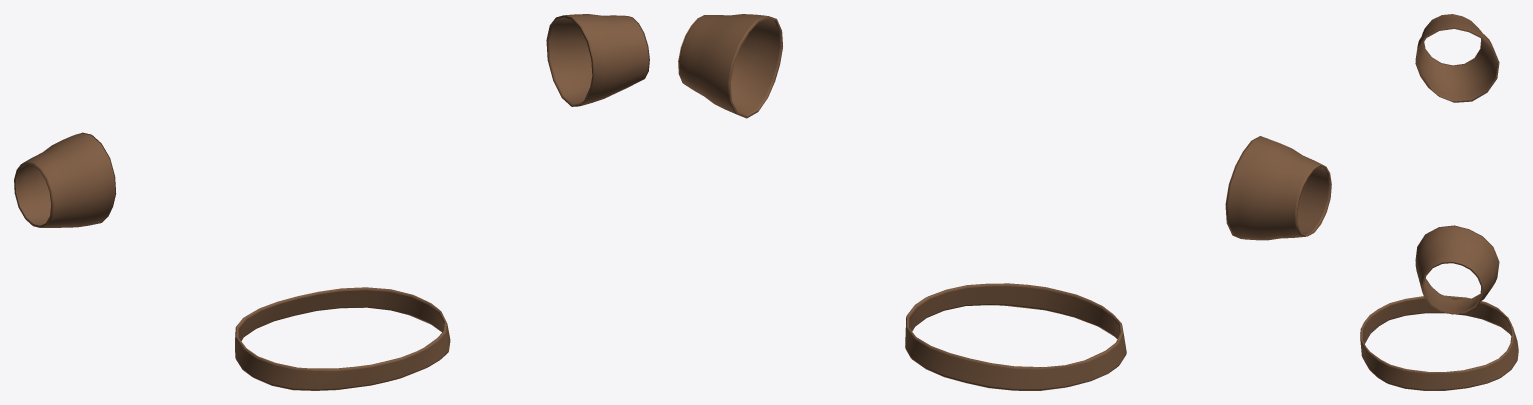
File: armor.redbrand.default.gltf
3 views of the same model, side by side, from view 1: azimuth 30°, elevation 25°; view 2: azimuth 150°, elevation 25°; view 3: azimuth 270°, elevation 25° (orthographic). The views are drawn at different scales.
Visible parts, largest first — view 1: redbrand.belt, redbrand.bracer_l, redbrand.bracer_r; view 2: redbrand.belt, redbrand.bracer_r, redbrand.bracer_l; view 3: redbrand.belt, redbrand.bracer_l, redbrand.bracer_r.
Part boxes in pixels (x1,y1,x2,y2): redbrand.belt: (235,287,450,390); redbrand.bracer_l: (546,14,649,106); redbrand.bracer_r: (14,132,116,227); redbrand.belt: (905,283,1126,390); redbrand.bracer_r: (1225,136,1331,240); redbrand.bracer_l: (678,14,782,118); redbrand.belt: (1360,295,1518,390); redbrand.bracer_l: (1415,225,1499,314); redbrand.bracer_r: (1415,14,1499,102).
Size of the model in its own units: 1.32 by 0.5606 by 0.3563.
